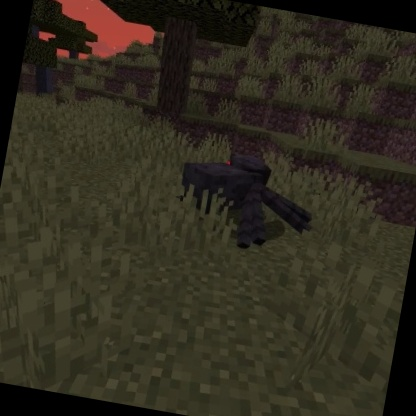spider: (168, 138, 325, 264)
